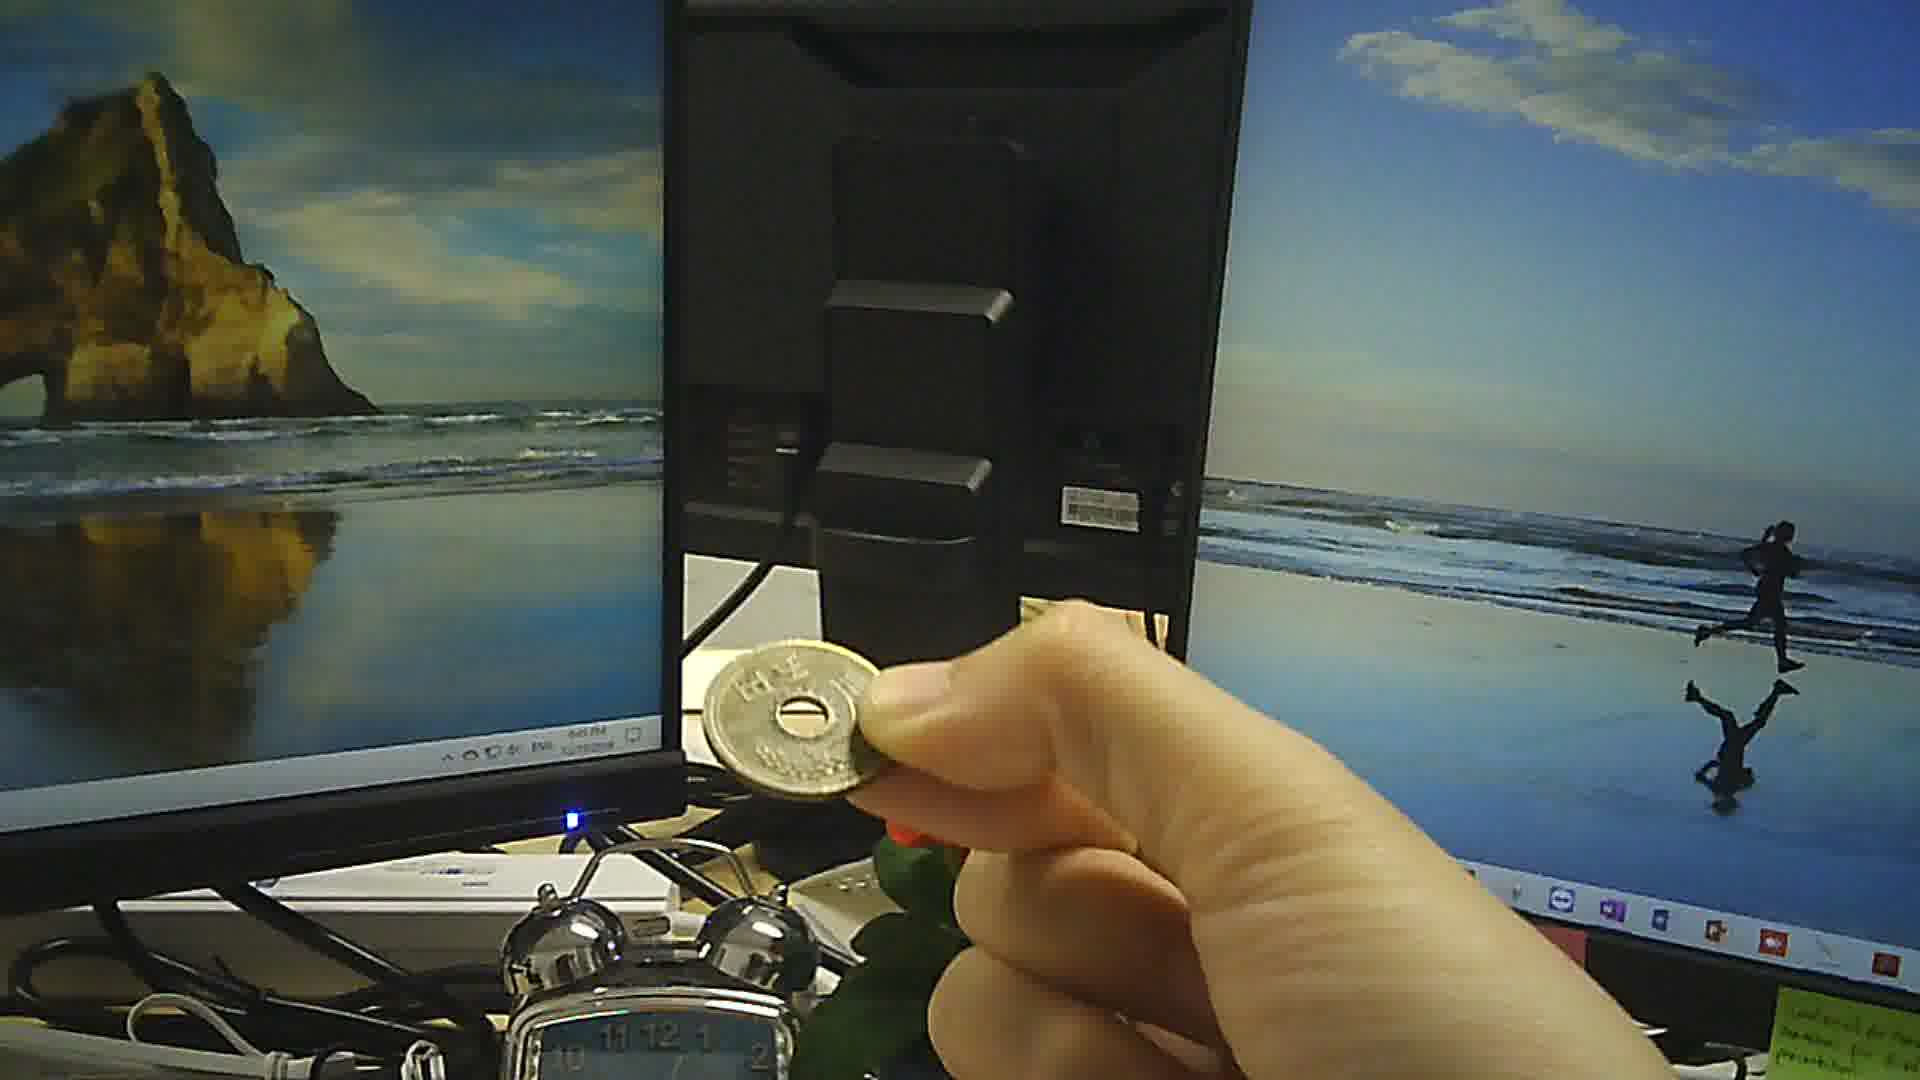5 Yen: (696, 637, 899, 806)
